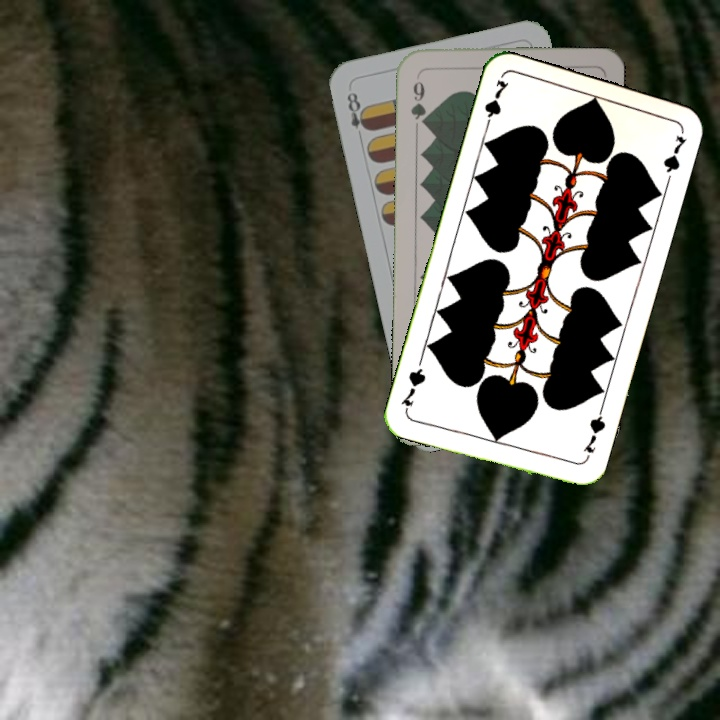E8: (342, 88, 372, 144)
G7: (480, 76, 512, 133), (579, 406, 608, 464)
G9: (406, 70, 429, 129)
